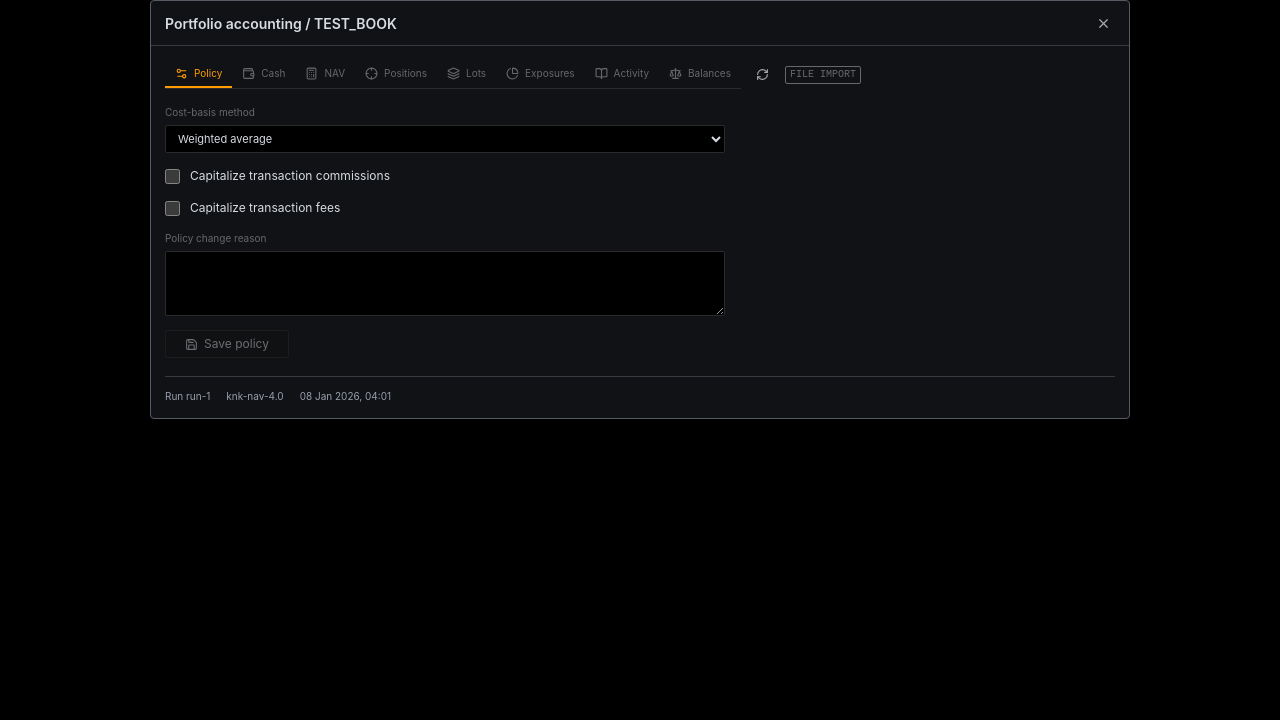
Test: accounting controls › retries failed Exposures detail on explicit refresh even when the parent run is unchanged
expect the dropdown labelled "Cost-basis method" is shown: met, box [165, 125, 725, 153]
Click the button "Exposures".
click(540, 74)  # box [496, 60, 585, 88]
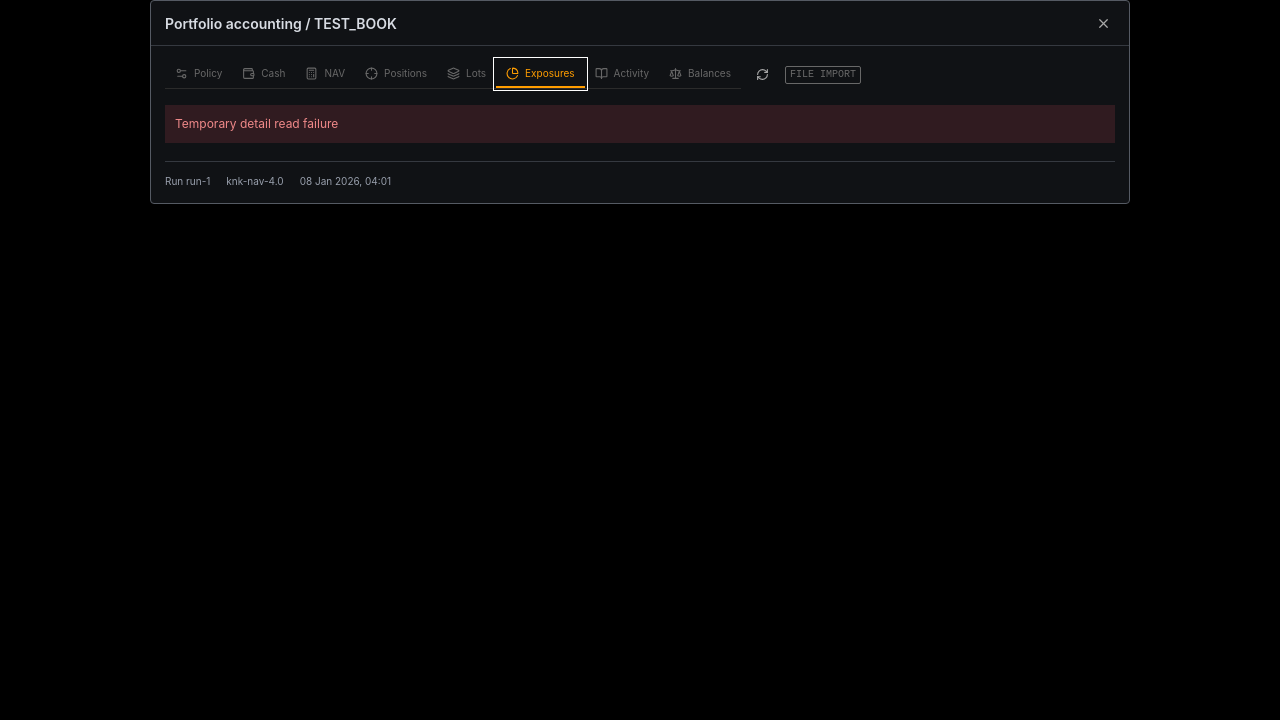
expect the message reads "Temporary detail read failure": met, box [175, 116, 338, 131]
Click the button named "Refresh accounting records".
click(763, 74)  # box [751, 62, 775, 86]
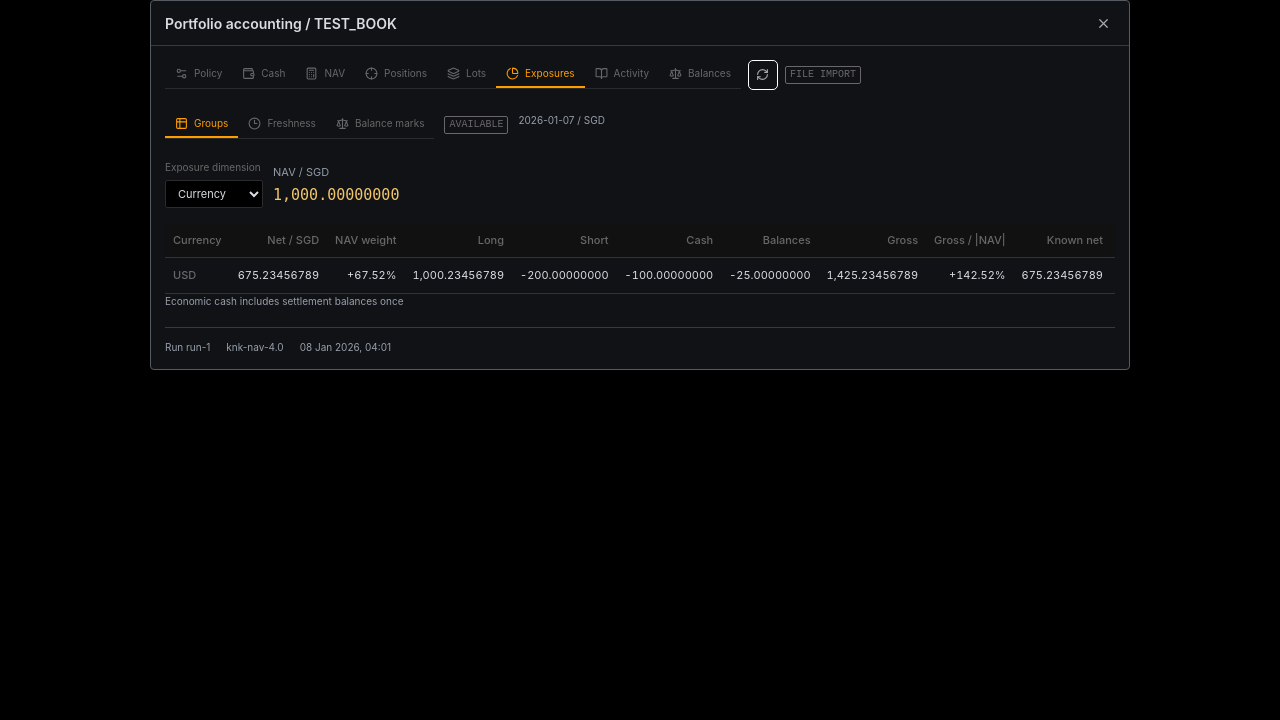
expect the table named "Grouped portfolio exposures" is shown: met, box [165, 224, 1115, 294]
expect the message "Temporary detail read failure" is gone: met
